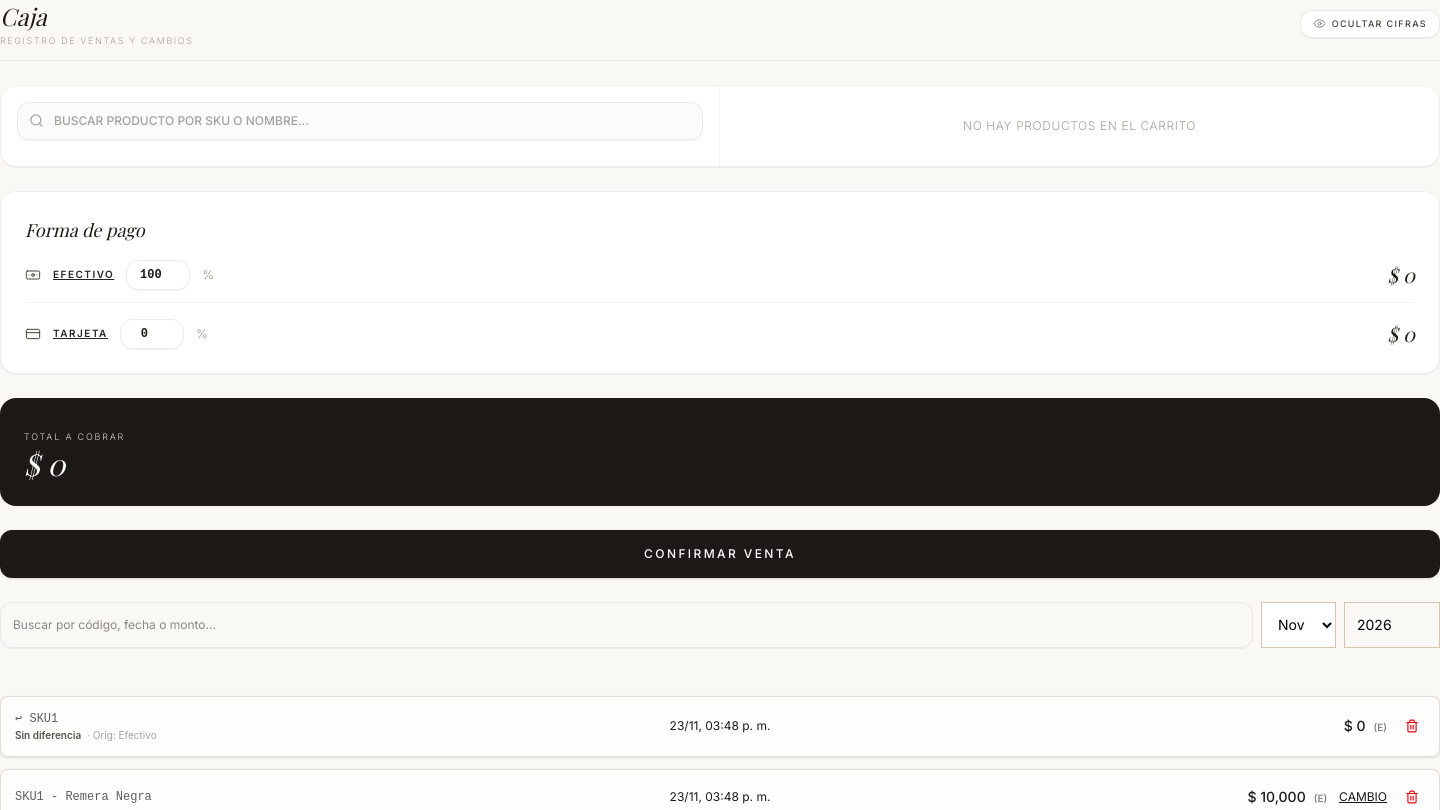
Test: Componente Sales › si se compraron 5 prendas y se devolvió 1 en un cambio previo, solo permite devolver hasta 4
Iniciar cambio desde la venta original de 5 prendas
Step 1. Click the button "Cambio" → click(1363, 797), box [1339,789,1387,805]
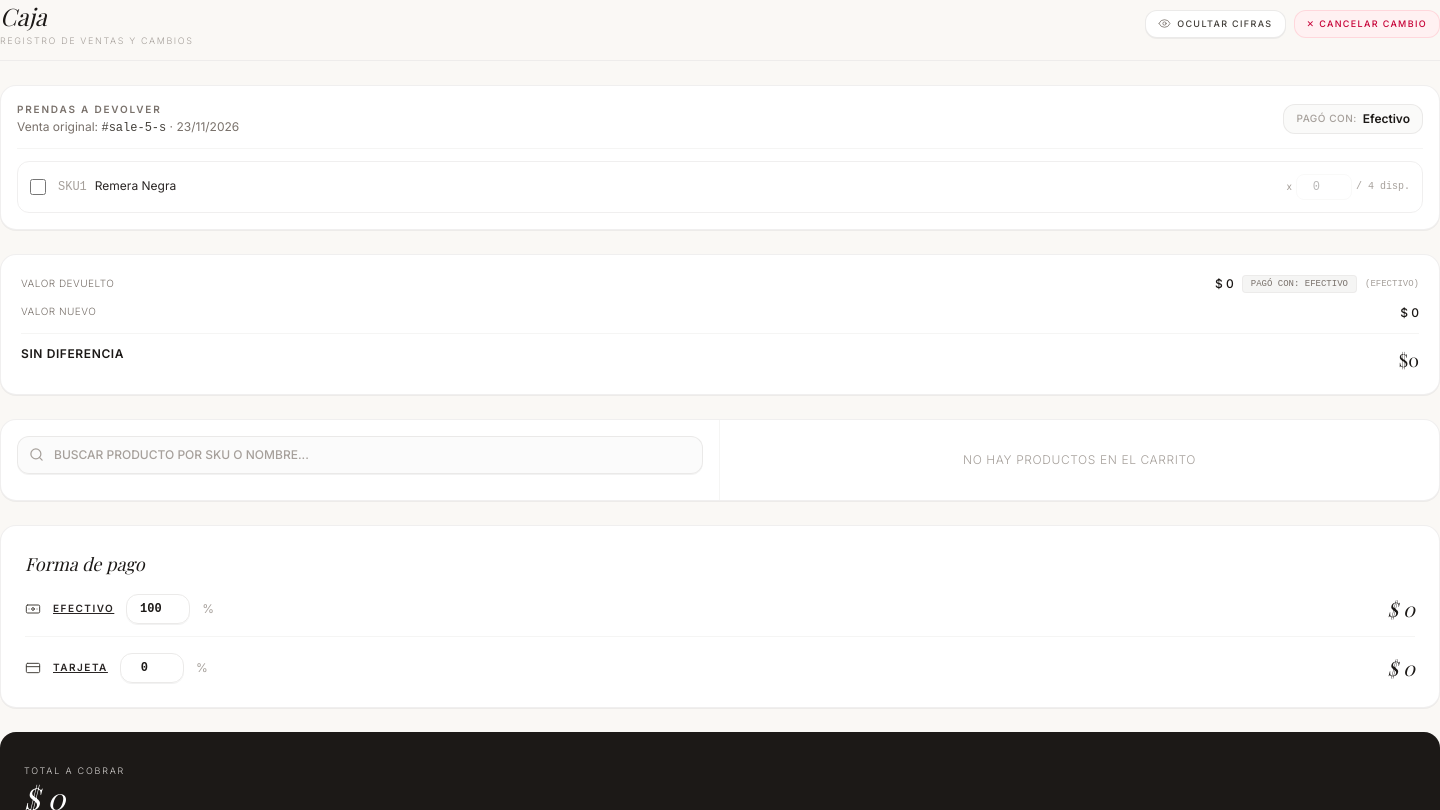
Result: the text "/ 4 disp." is shown at [1356,179,1410,194]
Seleccionar la prenda a devolver
Step 2. Click the checkbox → click(38, 186), box [30,178,46,194]
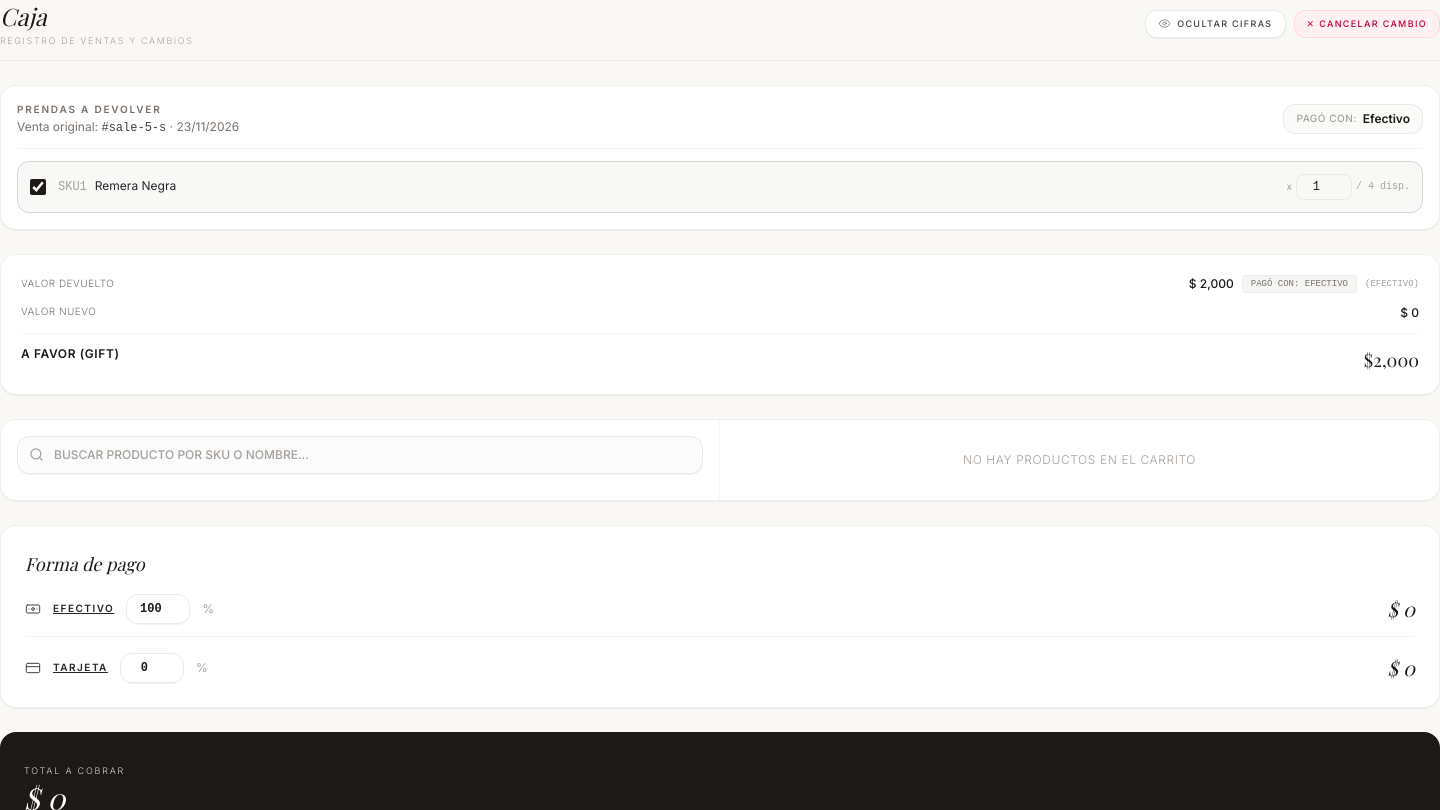
Intentar ingresar 5 debe clampear a 4
Step 3. Replace the text in the number field in the row of "disp." with "5" → (1324, 186), box [1296,174,1352,200]
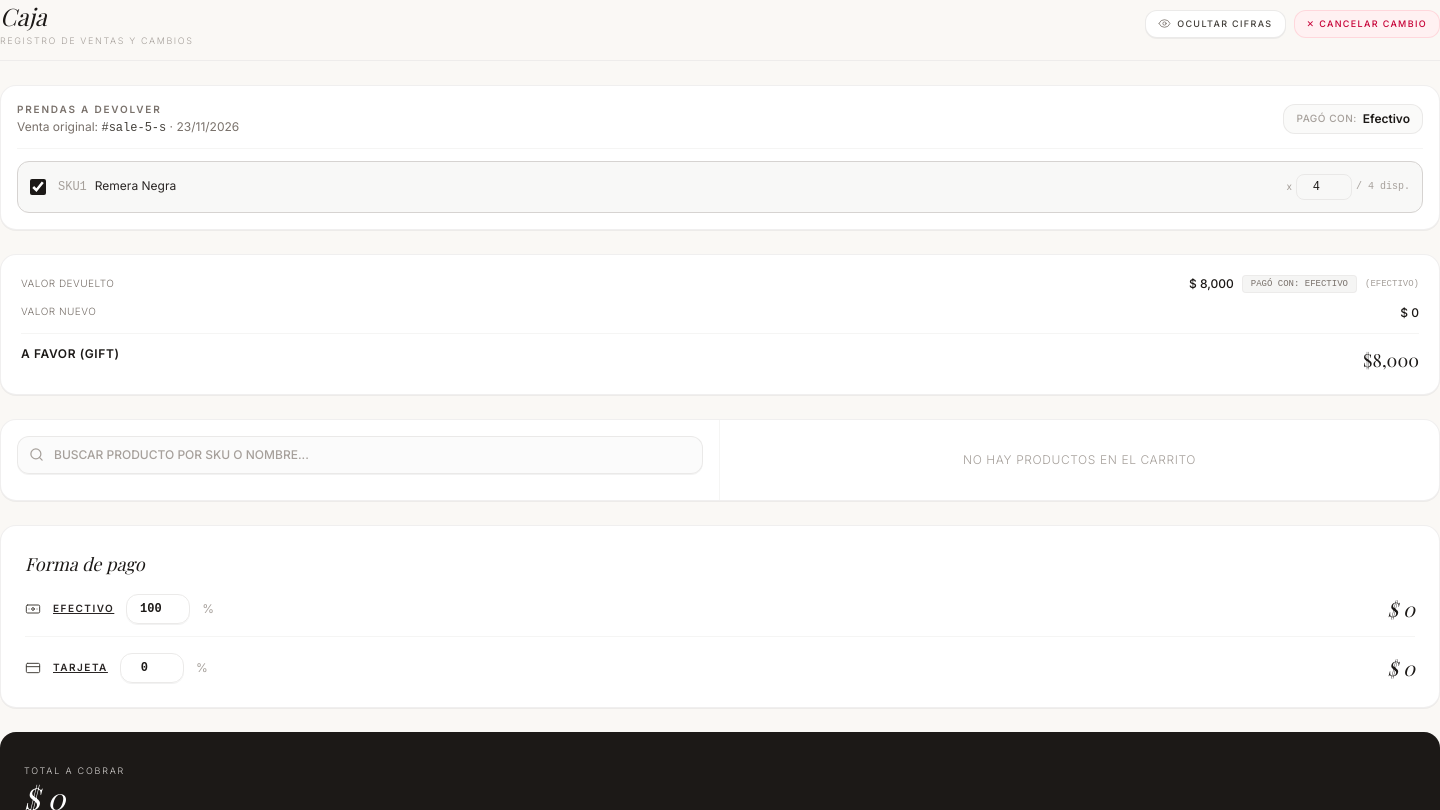
Result: the number field in the row of "disp." holds "4" at [1296,174,1352,200]
